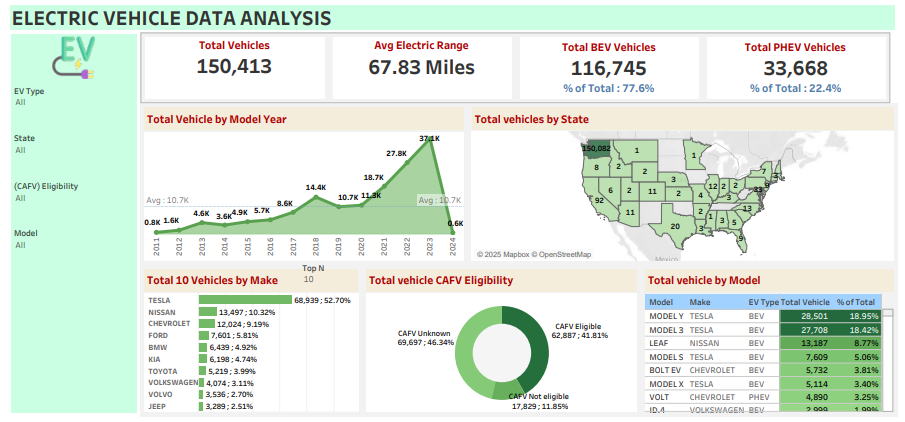

Layout of this report page (visuals, bound fields, positions):
{"tool":"tableau","page":{"name":"ELECTRIC VEHICLE DATA ANALYSIS","canvas":[1000,1000],"units":"permille","ordinal":0},"visuals":[{"type":"title","box":[6,12.7,988.1,71.2]},{"type":"worksheet","title":"Total Vehicle","mark":"Automatic","box":[154.5,85.4,208.2,163]},{"type":"worksheet","title":"Avg Electric Range","mark":"Automatic","box":[362.7,85.4,207.5,163]},{"type":"worksheet","title":"Total BEV Vehicles","mark":"Automatic","box":[570.1,85.4,207.5,163]},{"type":"worksheet","title":"Total PHEV Vehicles ","mark":"Automatic","box":[777.6,85.4,207.5,163]},{"type":"image","param":"D:/data/tableau project files/tableau project 3/ev.png","box":[10.5,87,138.8,112.3]},{"type":"filter","title":"Total 10 Vehicles by Make","param":"[federated.1dcmofr0hw5zza1402tqh17knqu7].[none:Electric Vehicle Type:nk]","box":[10.5,199.4,138.8,112.3]},{"type":"worksheet","title":"Total Vehicle by Model Year","mark":"Area","rows":["Calculation_164662911876104193","Calculation_164662911876104193"],"cols":["Model Year"],"box":[153.4,250,363.4,381.3]},{"type":"worksheet","title":"Total vehicles by State","mark":"Multipolygon","box":[516.9,250,477.2,381.3]},{"type":"filter","title":"Total 10 Vehicles by Make","param":"[federated.1dcmofr0hw5zza1402tqh17knqu7].[none:State:nk]","box":[10.5,311.7,138.8,112.3]},{"type":"filter","title":"Total Vehicle by Model Year","param":"[federated.1dcmofr0hw5zza1402tqh17knqu7].[none:Clean Alternative Fuel Vehicle (C","box":[10.5,424.1,138.8,110.8]},{"type":"filter","title":"Total Vehicle by Model Year","param":"[federated.1dcmofr0hw5zza1402tqh17knqu7].[none:Model:nk]","box":[10.5,534.8,138.8,110.8]},{"type":"parameter","param":"[Parameters].[Parameter 1]","box":[333.3,623.4,68.4,66.5]},{"type":"worksheet","title":"Total 10 Vehicles by Make","mark":"Automatic","rows":["Make"],"cols":["Calculation_164662911876104193"],"box":[153.4,631.3,246.4,356]},{"type":"worksheet","title":"Total vehicle CAFV Eligibility","mark":"Pie","rows":["Calculation_229965108304105477","Calculation_229965108304105477"],"box":[399.8,631.3,309.9,356]},{"type":"worksheet","title":"Total vehicle by Model","mark":"Square","rows":["Model","Make","Electric Vehicle Type"],"box":[709.7,631.3,284.3,356]},{"type":"blank","box":[10.5,645.6,138.8,110.8]},{"type":"blank","box":[10.5,756.3,138.8,110.8]},{"type":"blank","box":[10.5,867.1,138.8,110.8]}]}

Visuals, with their boxes on the dashboard's canvas, which has no fixed pixel size, in thousandths of its width and height (x1, y1, x2, y2). These are canvas units, not pixel positions in the 905x422 screenshot, which may show the page scaled, cropped or inside an application window:
title: 6/13/994/84
"Total Vehicle" worksheet: 154/85/363/248
"Avg Electric Range" worksheet: 363/85/570/248
"Total BEV Vehicles" worksheet: 570/85/778/248
"Total PHEV Vehicles " worksheet: 778/85/985/248
image: 10/87/149/199
"Total 10 Vehicles by Make" filter: 10/199/149/312
"Total Vehicle by Model Year" worksheet (Area marks): 153/250/517/631
"Total vehicles by State" worksheet (Multipolygon marks): 517/250/994/631
"Total 10 Vehicles by Make" filter: 10/312/149/424
"Total Vehicle by Model Year" filter: 10/424/149/535
"Total Vehicle by Model Year" filter: 10/535/149/646
parameter: 333/623/402/690
"Total 10 Vehicles by Make" worksheet: 153/631/400/987
"Total vehicle CAFV Eligibility" worksheet (Pie marks): 400/631/710/987
"Total vehicle by Model" worksheet (Square marks): 710/631/994/987
blank: 10/646/149/756
blank: 10/756/149/867
blank: 10/867/149/978
